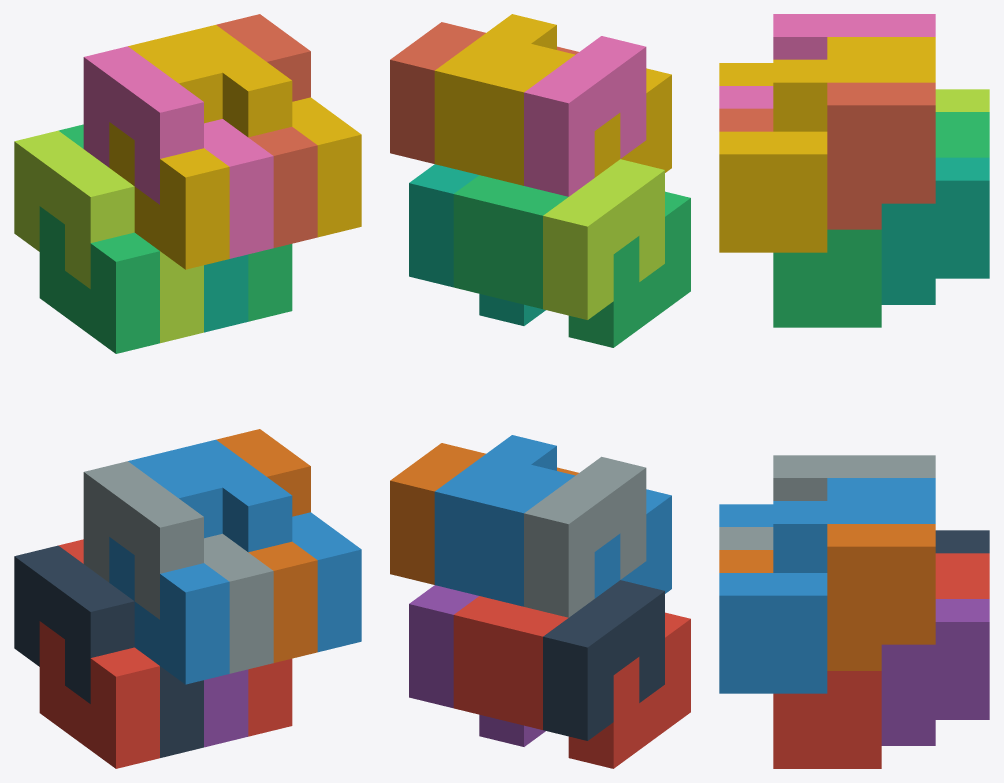
File: tiling.obj
The picture shows the model from 3 angles, left to right: view 1: azimuth 30°, elevation 25°; view 2: azimuth 150°, elevation 25°; view 3: azimuth 270°, elevation 25°; orthographic projection. The views are drawn at different scales.
Visible parts, largest first — view 1: copy_2_domain_4, copy_2_domain_2, copy_2_domain_3, copy_2_domain_1, copy_1_domain_2, copy_1_domain_4, copy_2_domain_6, copy_2_domain_8, copy_1_domain_1, copy_1_domain_3, copy_1_domain_6, copy_1_domain_8 (+4 smaller); view 2: copy_2_domain_4, copy_2_domain_2, copy_2_domain_1, copy_2_domain_3, copy_1_domain_1, copy_1_domain_3, copy_1_domain_4, copy_1_domain_2, copy_2_domain_6, copy_2_domain_8, copy_1_domain_7, copy_1_domain_5 (+4 smaller); view 3: copy_2_domain_8, copy_2_domain_6, copy_1_domain_8, copy_1_domain_6, copy_1_domain_7, copy_1_domain_5, copy_2_domain_7, copy_2_domain_5, copy_2_domain_2, copy_2_domain_4, copy_1_domain_2, copy_1_domain_4 (+4 smaller).
Part boxes in pixels (<box>): copy_2_domain_4: <box>83,46,273,258</box>; copy_2_domain_2: <box>83,461,273,673</box>; copy_2_domain_3: <box>14,130,203,343</box>; copy_2_domain_1: <box>14,545,203,757</box>; copy_1_domain_2: <box>109,450,229,684</box>; copy_1_domain_4: <box>109,35,229,269</box>; copy_2_domain_6: <box>172,439,361,652</box>; copy_2_domain_8: <box>172,25,361,237</box>; copy_1_domain_1: <box>39,539,159,768</box>; copy_1_domain_3: <box>39,124,159,353</box>; copy_1_domain_6: <box>216,429,317,662</box>; copy_1_domain_8: <box>216,14,317,247</box>; copy_2_domain_4: <box>524,36,646,196</box>; copy_2_domain_2: <box>524,456,646,617</box>; copy_2_domain_1: <box>543,580,664,740</box>; copy_2_domain_3: <box>543,159,664,319</box>; copy_1_domain_1: <box>498,607,690,768</box>; copy_1_domain_3: <box>498,186,690,347</box>; copy_1_domain_4: <box>479,44,671,185</box>; copy_1_domain_2: <box>479,464,671,606</box>; copy_2_domain_6: <box>434,435,556,595</box>; copy_2_domain_8: <box>434,14,556,174</box>; copy_1_domain_7: <box>409,164,545,325</box>; copy_1_domain_5: <box>409,585,545,746</box>; copy_2_domain_8: <box>719,59,935,252</box>; copy_2_domain_6: <box>719,501,935,693</box>; copy_1_domain_8: <box>719,82,935,229</box>; copy_1_domain_6: <box>719,524,935,670</box>; copy_1_domain_7: <box>881,157,989,304</box>; copy_1_domain_5: <box>881,599,989,745</box>; copy_2_domain_7: <box>773,135,989,327</box>; copy_2_domain_5: <box>773,576,989,768</box>; copy_2_domain_2: <box>719,455,935,549</box>; copy_2_domain_4: <box>719,14,935,108</box>; copy_1_domain_2: <box>719,478,935,526</box>; copy_1_domain_4: <box>719,37,935,85</box>.
Size of the model in its own units: 5 by 14 by 5.
